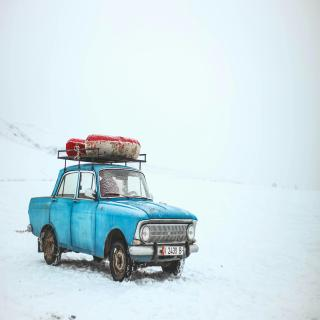Normal_vehicle: (26, 133, 201, 285)
